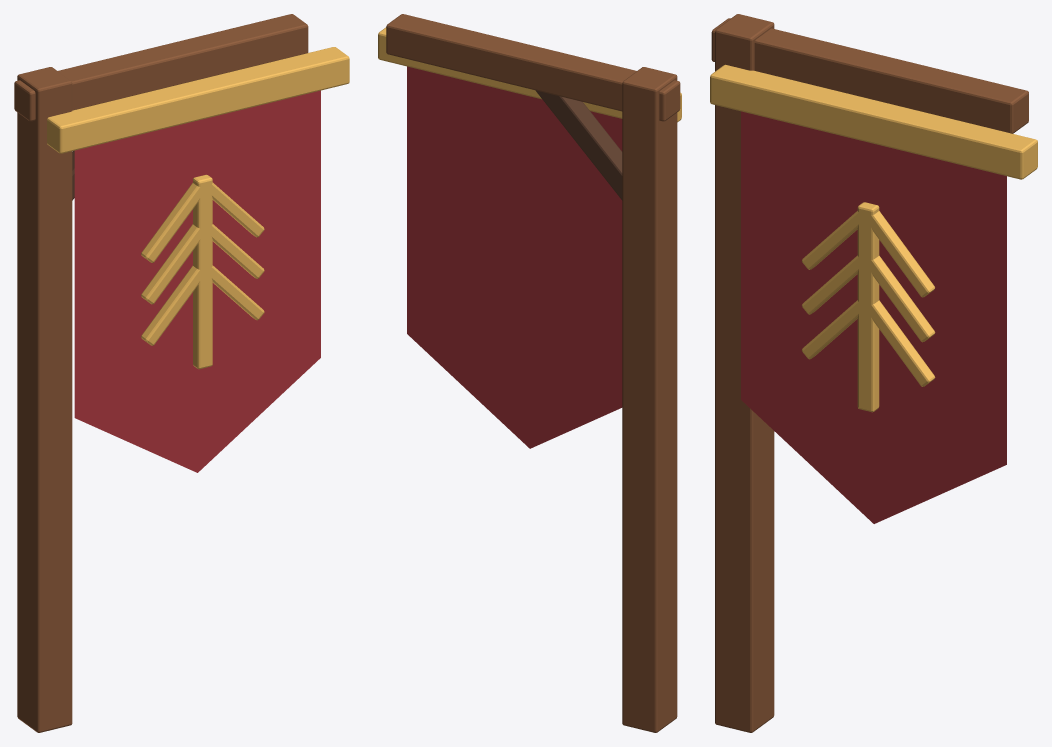
The model's file is ashwick-village-standard.meshopt.glb.
3 renders of one model, left to right at view 1: azimuth 30°, elevation 25°; view 2: azimuth 150°, elevation 25°; view 3: azimuth 330°, elevation 25°, orthographic. The views are drawn at different scales.
Parts seen in each view (by area): view 1: Swallow pennant.001, Post.001, Banner staff.001, Bracket.001, Tree device.001; view 2: Swallow pennant.001, Post.001, Bracket.001, Brace.001, Banner staff.001; view 3: Swallow pennant.001, Post.001, Banner staff.001, Bracket.001, Tree device.001.
Part boxes in pixels (<box>): Swallow pennant.001: <box>74,90,320,472</box>; Post.001: <box>17,67,72,732</box>; Banner staff.001: <box>47,47,349,153</box>; Bracket.001: <box>14,14,308,121</box>; Tree device.001: <box>141,174,264,369</box>; Swallow pennant.001: <box>407,66,622,448</box>; Post.001: <box>622,67,677,732</box>; Bracket.001: <box>386,14,680,121</box>; Brace.001: <box>535,90,622,200</box>; Banner staff.001: <box>378,27,681,122</box>; Swallow pennant.001: <box>741,111,1006,523</box>; Post.001: <box>715,14,774,732</box>; Banner staff.001: <box>710,64,1037,179</box>; Bracket.001: <box>711,18,1028,133</box>; Tree device.001: <box>802,202,935,412</box>.
Bounding box in the file's own units: 1.38 × 2.8 × 0.28.
